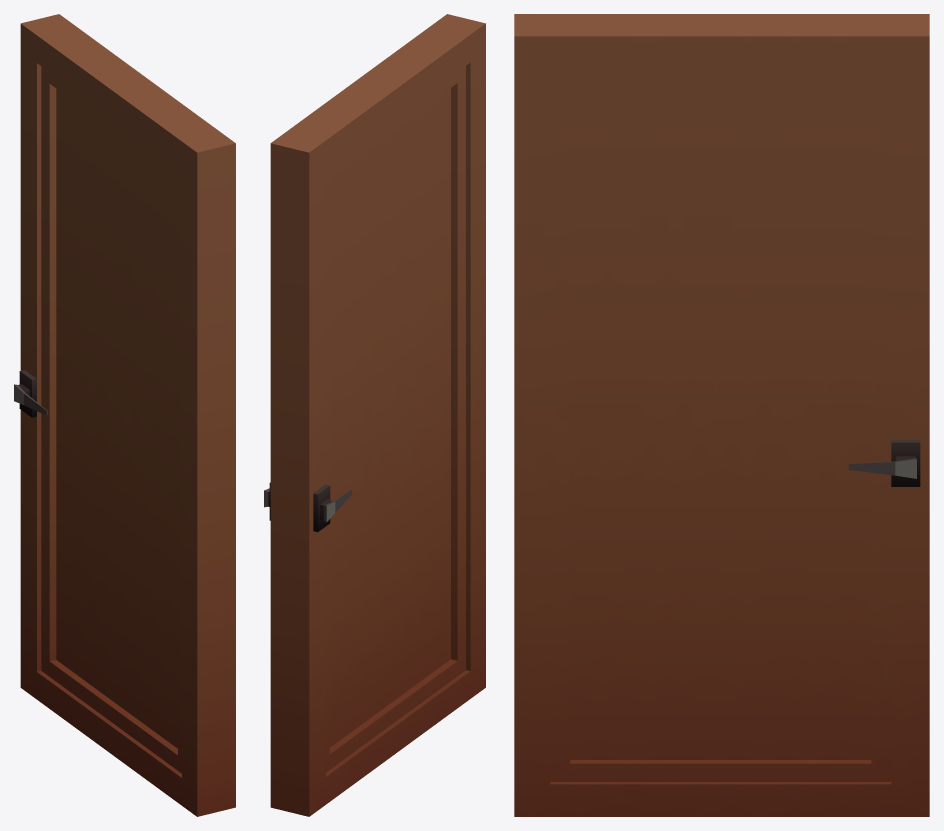
File: SM_Door.fbx
The picture shows the model from 3 angles, left to right: view 1: azimuth 30°, elevation 25°; view 2: azimuth 150°, elevation 25°; view 3: azimuth 270°, elevation 25°; orthographic projection. The views are drawn at different scales.
Visible parts, largest first — view 1: Door.002; view 2: Door.002; view 3: Door.002.
Boxes of the visible parts, x1,y1,x2,y2 form: Door.002: [14, 14, 235, 816]; Door.002: [264, 14, 485, 816]; Door.002: [514, 14, 929, 816].
Size of the model in its own units: 0.1561 by 1.58 by 0.7639.
